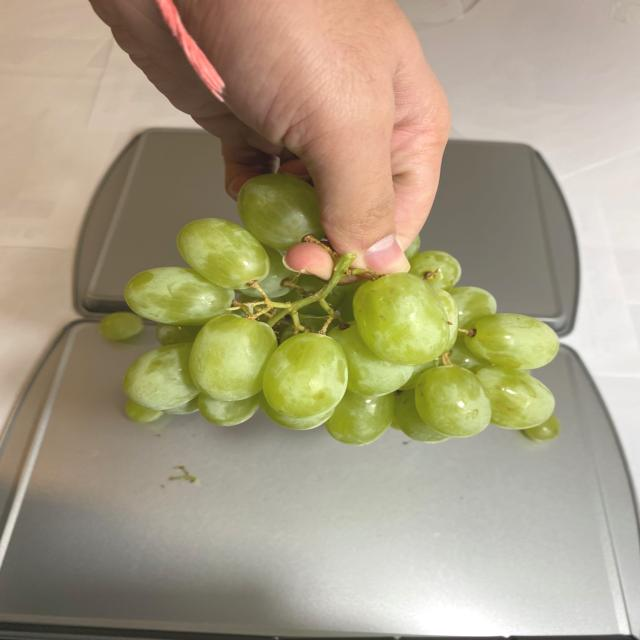grapes: (101, 175, 564, 427)
